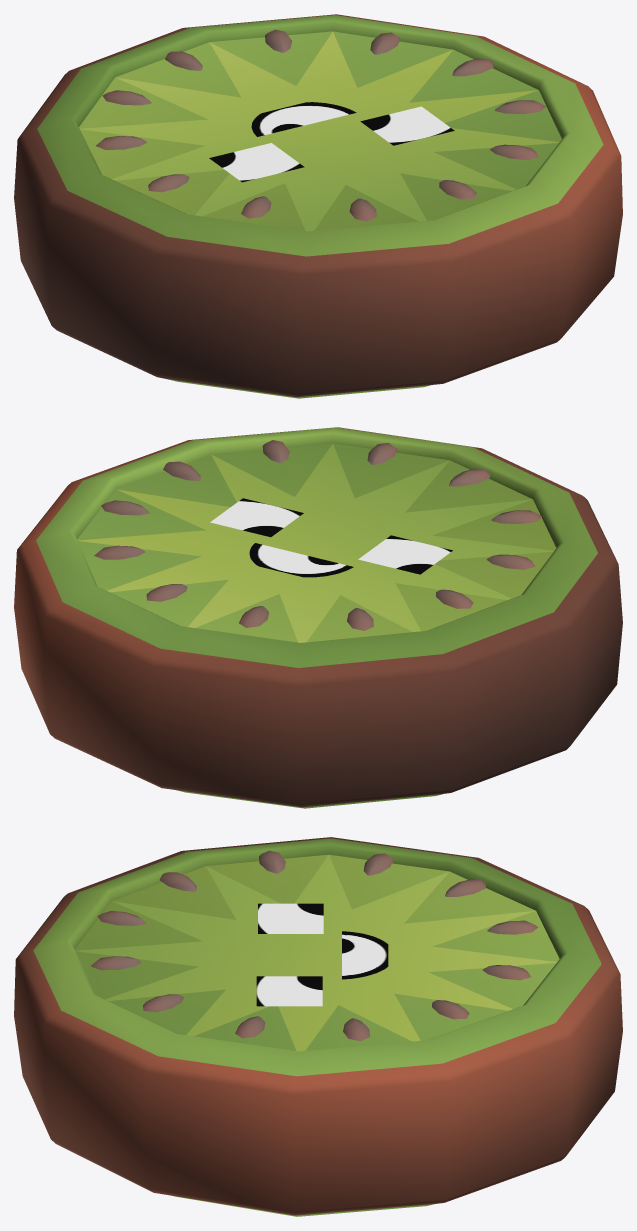
Rendered from kiwi_smile.fbx.
The picture shows the model from 3 angles, top to bottom: view 1: azimuth 30°, elevation 25°; view 2: azimuth 150°, elevation 25°; view 3: azimuth 270°, elevation 25°; orthographic projection.
Parts seen in each view (by area): view 1: kiwi; view 2: kiwi; view 3: kiwi.
Part boxes in pixels (x1,y1,x2,y2): kiwi: [14, 14, 622, 398]; kiwi: [14, 427, 622, 808]; kiwi: [14, 837, 622, 1216].
Size of the model in its own units: 26.18 by 26.14 by 8.11.
